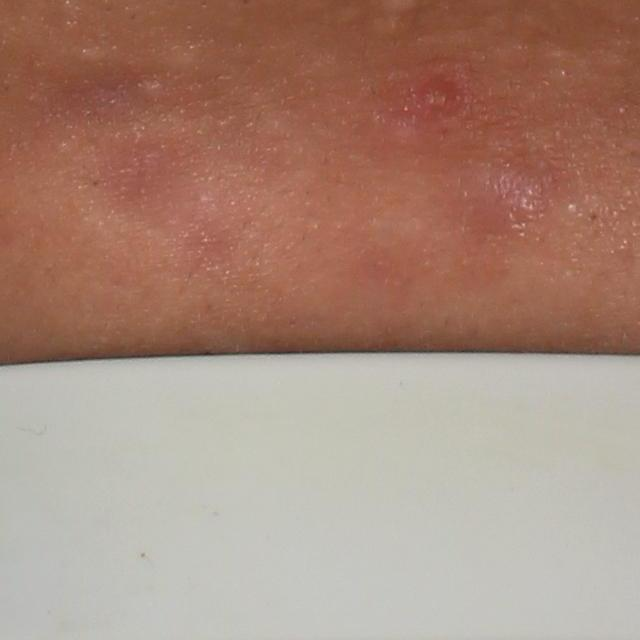hypertrophic_scar: (483, 32, 542, 74), (159, 36, 211, 72), (364, 12, 419, 39), (78, 45, 110, 64)
papule: (453, 166, 544, 235), (406, 69, 482, 128)
